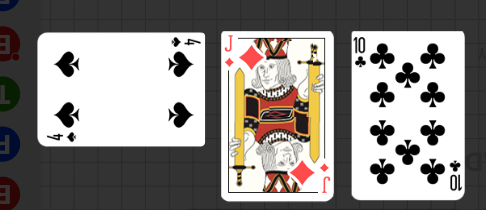10C: (447, 158, 462, 192)
4S: (45, 130, 79, 143), (169, 35, 202, 48)
